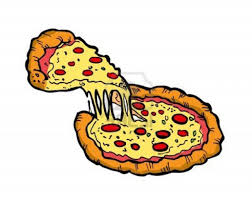pizza: (22, 24, 227, 172)
